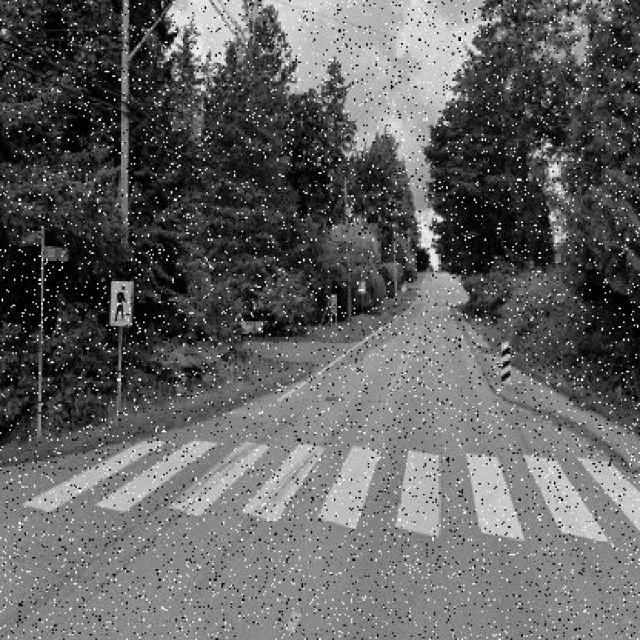crosswalk: (6, 437, 638, 573)
